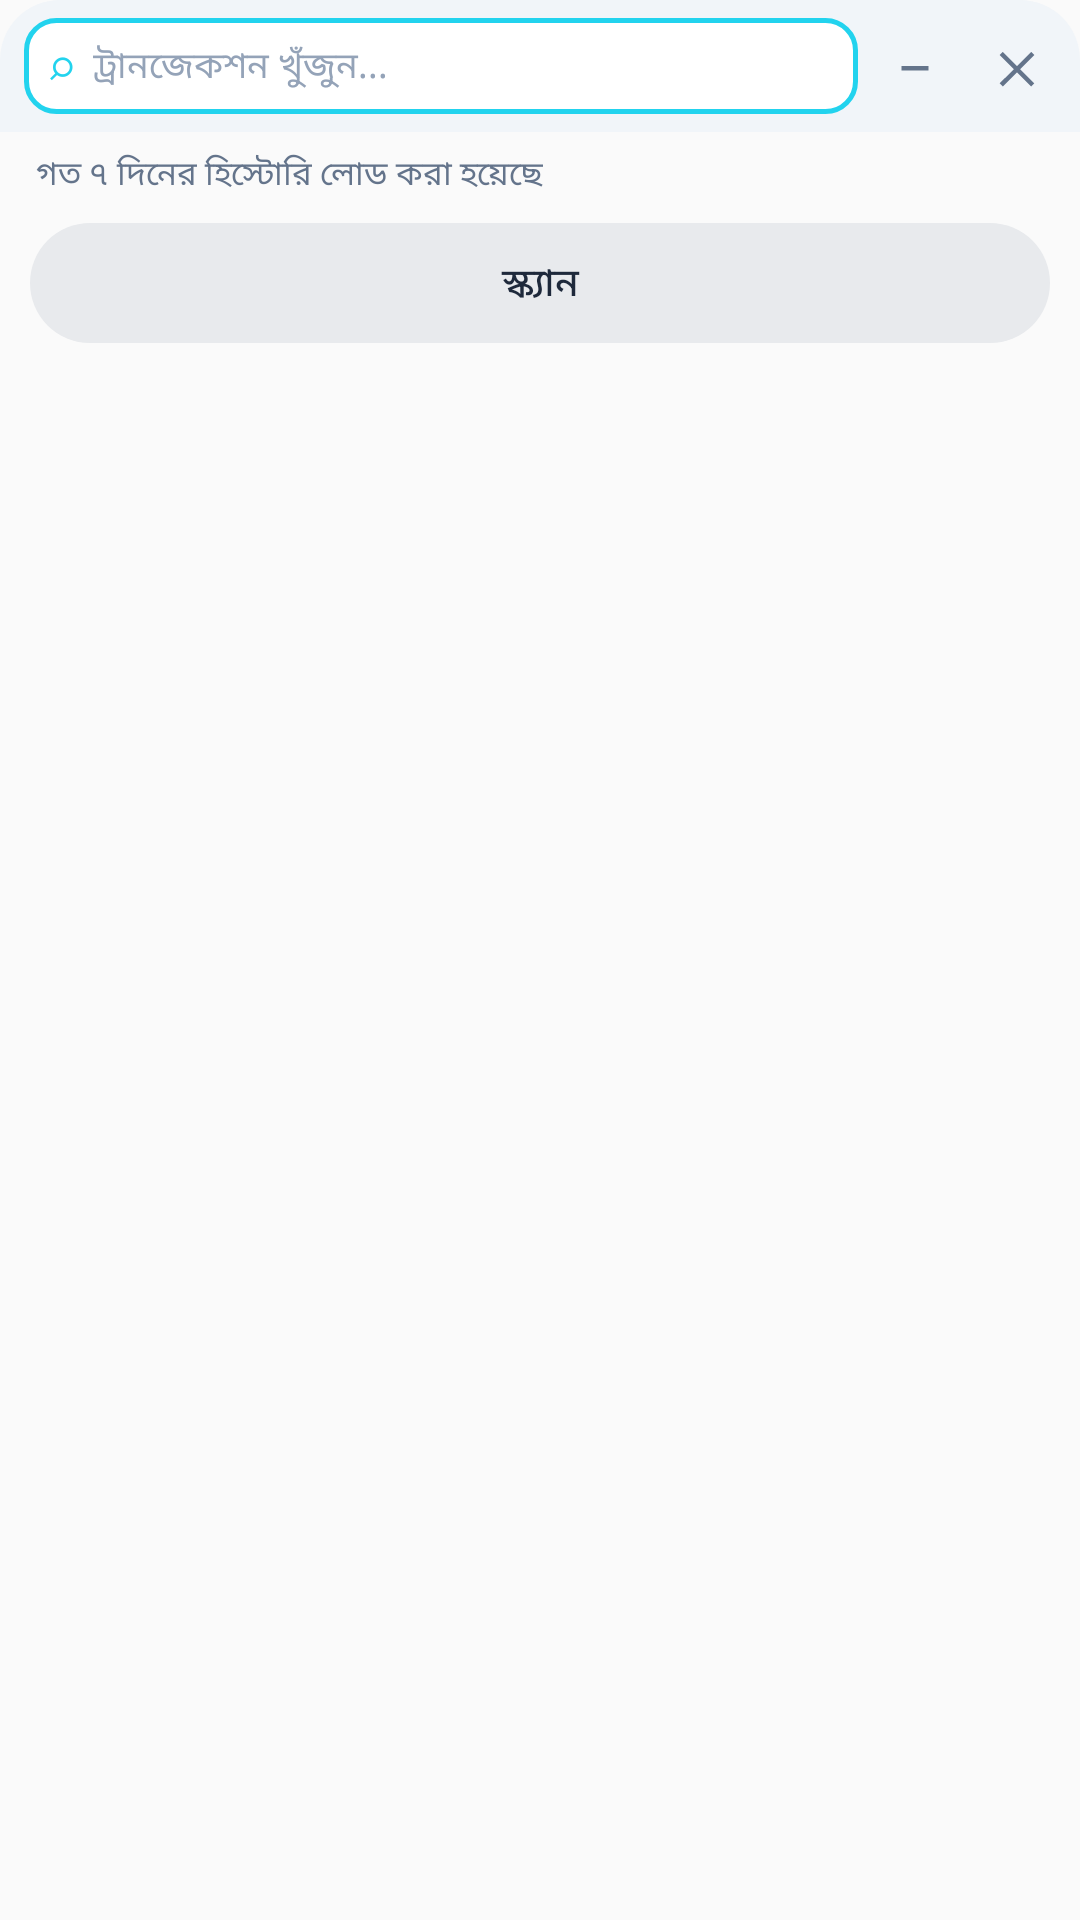

Screen size 1080 x 1920. Icon name, then its center in pixels as point (x, y):
বন্ধ: point (1017, 69)
মিনিমাইজ: point (915, 68)
